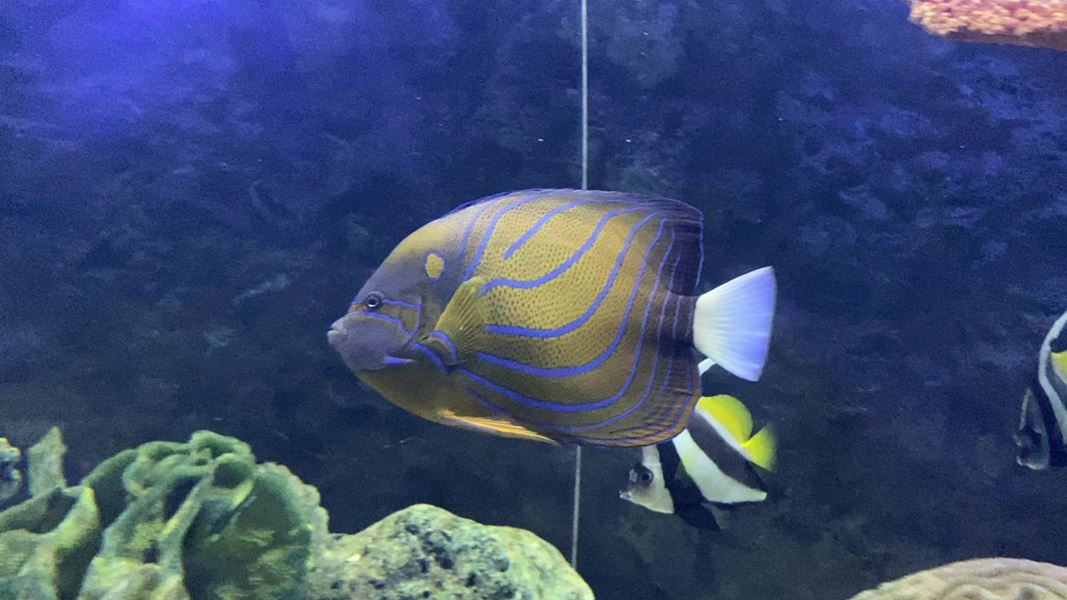Blue ring angelfish: (317, 171, 788, 468)
